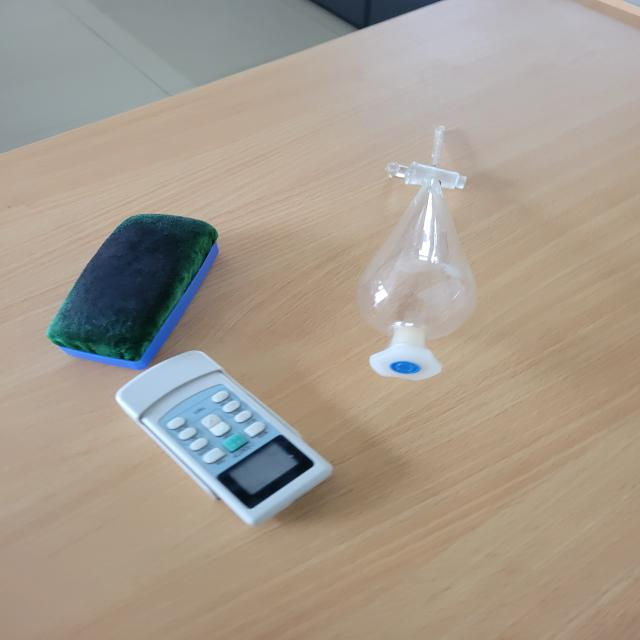Separating_Funnel: (335, 91, 526, 405)
